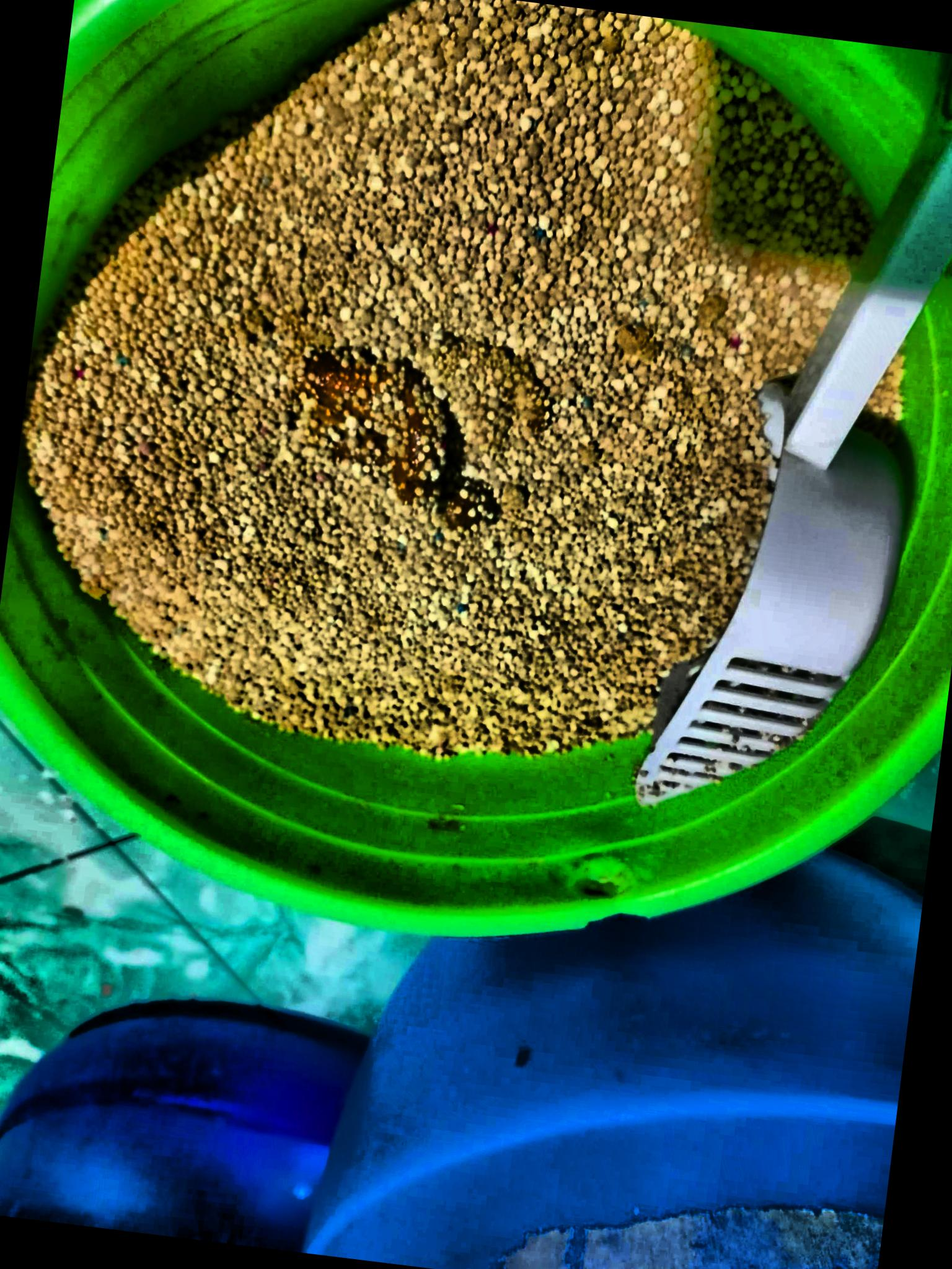poop: (303, 351, 497, 530)
